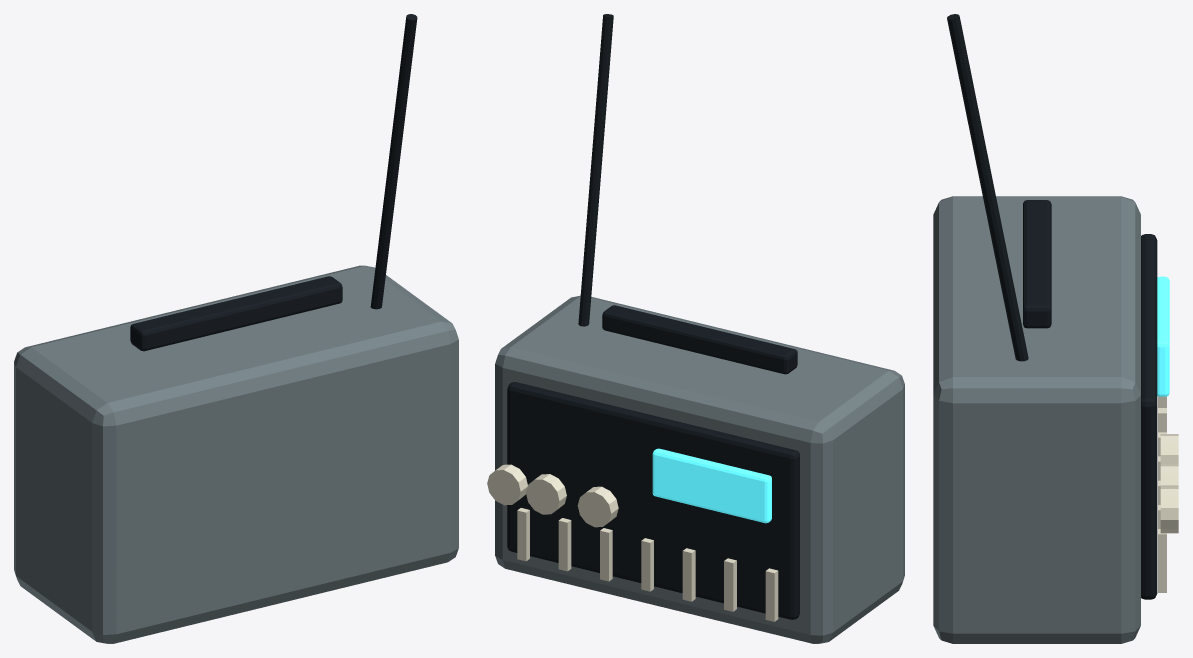
File: radio_console.glb
The picture shows the model from 3 angles, left to right: view 1: azimuth 30°, elevation 25°; view 2: azimuth 150°, elevation 25°; view 3: azimuth 270°, elevation 25°; orthographic projection. The views are drawn at different scales.
Parts seen in each view (by area): view 1: RadioCase, CarryHandle, RadioAntenna; view 2: RadioCase, RadioPanel, FrequencyDisplay, CarryHandle, RadioAntenna, RadioKnob.001, RadioKnob, RadioKnob.002, SpeakerSlot.002, SpeakerSlot, SpeakerSlot.005, SpeakerSlot.001 (+3 smaller); view 3: RadioCase, RadioPanel, RadioAntenna, CarryHandle, FrequencyDisplay, RadioKnob.002, RadioKnob, SpeakerSlot.006, RadioKnob.001.
Boxes of the visible parts, x1,y1,x2,y2 form: RadioCase: [14, 265, 458, 643]; CarryHandle: [130, 276, 342, 351]; RadioAntenna: [370, 14, 417, 309]; RadioCase: [495, 295, 904, 643]; RadioPanel: [507, 382, 799, 619]; FrequencyDisplay: [652, 448, 771, 523]; CarryHandle: [602, 305, 797, 374]; RadioAntenna: [578, 14, 613, 326]; RadioKnob.001: [526, 474, 566, 514]; RadioKnob: [577, 486, 618, 527]; RadioKnob.002: [487, 464, 527, 505]; SpeakerSlot.002: [682, 548, 695, 601]; SpeakerSlot: [765, 568, 778, 621]; SpeakerSlot.005: [558, 518, 571, 571]; SpeakerSlot.001: [724, 558, 736, 611]; RadioCase: [933, 196, 1140, 643]; RadioPanel: [1141, 234, 1157, 599]; RadioAntenna: [947, 14, 1028, 361]; CarryHandle: [1023, 200, 1051, 328]; FrequencyDisplay: [1157, 276, 1169, 396]; RadioKnob.002: [1160, 487, 1178, 533]; RadioKnob: [1160, 434, 1178, 464]; SpeakerSlot.006: [1158, 529, 1166, 592]; RadioKnob.001: [1160, 464, 1178, 486].
Bounding box in the file's own units: 1.3 × 1.88 × 0.685.
